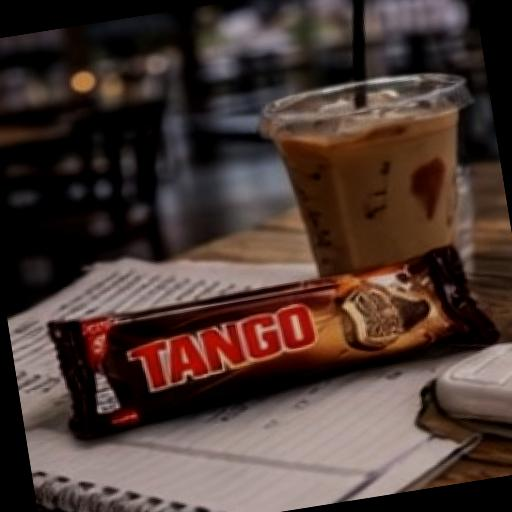tango: (16, 188, 512, 478)
